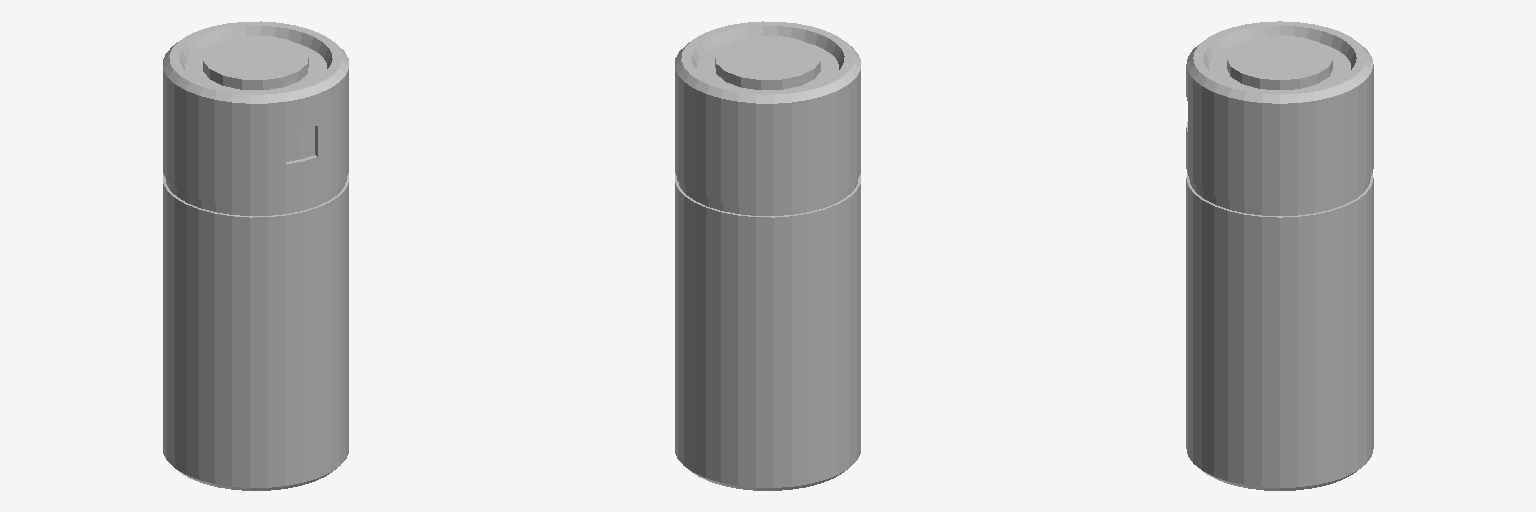
Rendered from Deo.obj.
3 renders of one model, left to right at view 1: azimuth 30°, elevation 25°; view 2: azimuth 150°, elevation 25°; view 3: azimuth 270°, elevation 25°, orthographic.
Visible parts, largest first — view 1: Deo; view 2: Deo; view 3: Deo.
Part boxes in pixels (x1,y1,x2,y2): Deo: (163, 21, 348, 490); Deo: (675, 21, 860, 490); Deo: (1186, 21, 1373, 490).
Size of the model in its own units: 6 by 14.01 by 6.